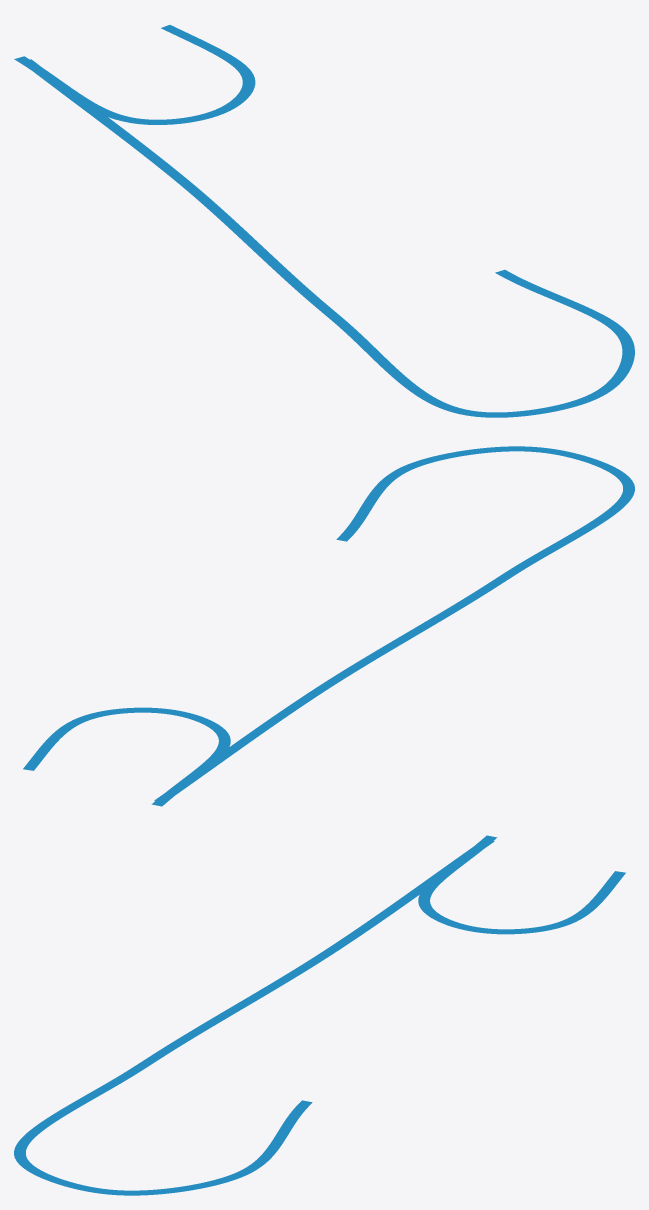
The model's file is guide.glb.
3 renders of one model, top to bottom at view 1: azimuth 30°, elevation 25°; view 2: azimuth 150°, elevation 25°; view 3: azimuth 330°, elevation 25°, orthographic. The views are drawn at different scales.
Parts seen in each view (by area): view 1: static; view 2: static; view 3: static.
Boxes of the visible parts, x1=… form: static: x1=14, y1=25, x2=634, y2=417; static: x1=23, y1=446, x2=634, y2=806; static: x1=14, y1=835, x2=625, y2=1195.
Size of the model in its own units: 6.58 by 0 by 25.87.
